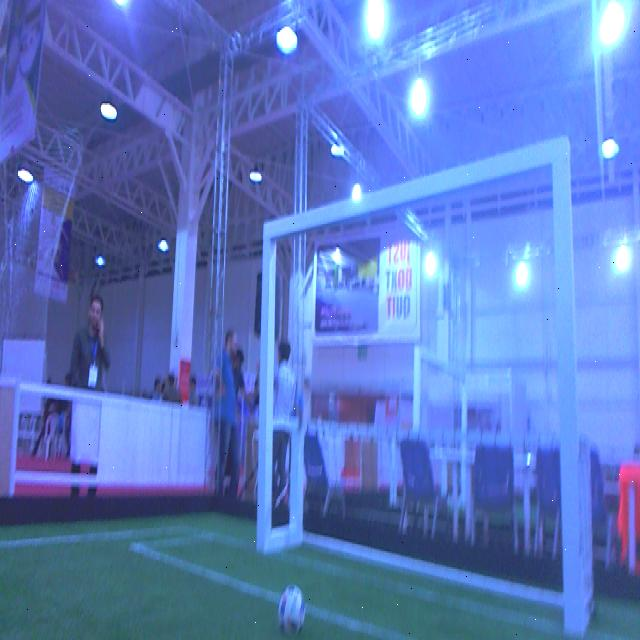ball: (279, 583, 307, 637)
goalpost: (550, 137, 584, 631), (258, 221, 274, 551)
